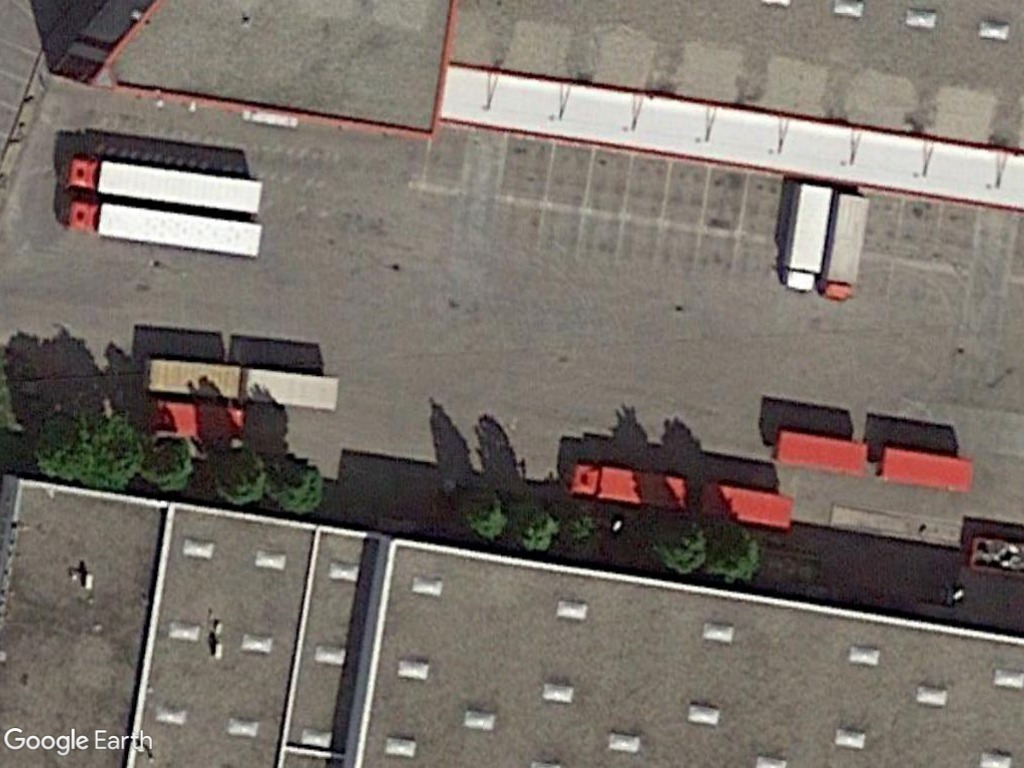truck: (61, 153, 272, 220), (63, 195, 269, 258), (562, 454, 694, 518), (776, 177, 838, 293), (821, 193, 877, 304)
